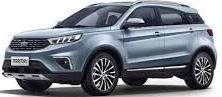SUV: (4, 3, 218, 96)
